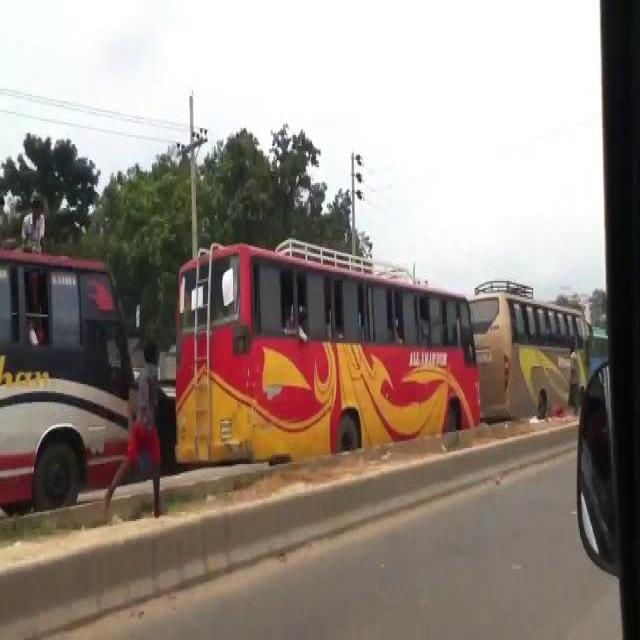Truck: (169, 231, 481, 441), (0, 237, 141, 516), (468, 279, 596, 425)
